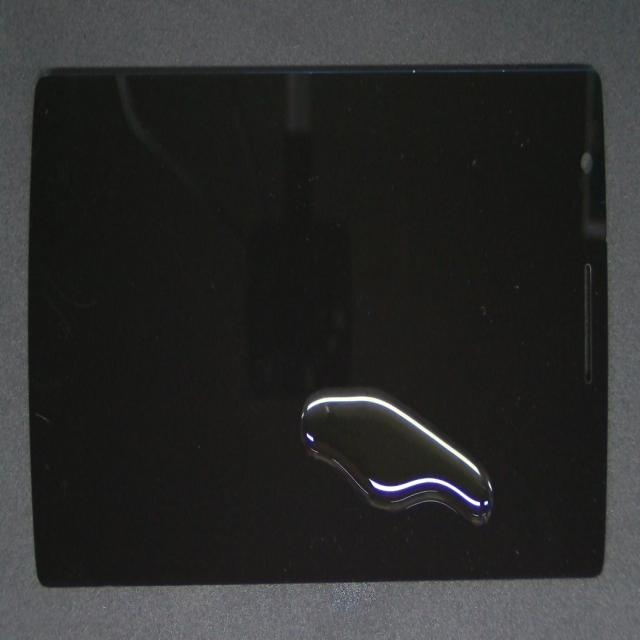oil: (252, 277, 640, 640)
